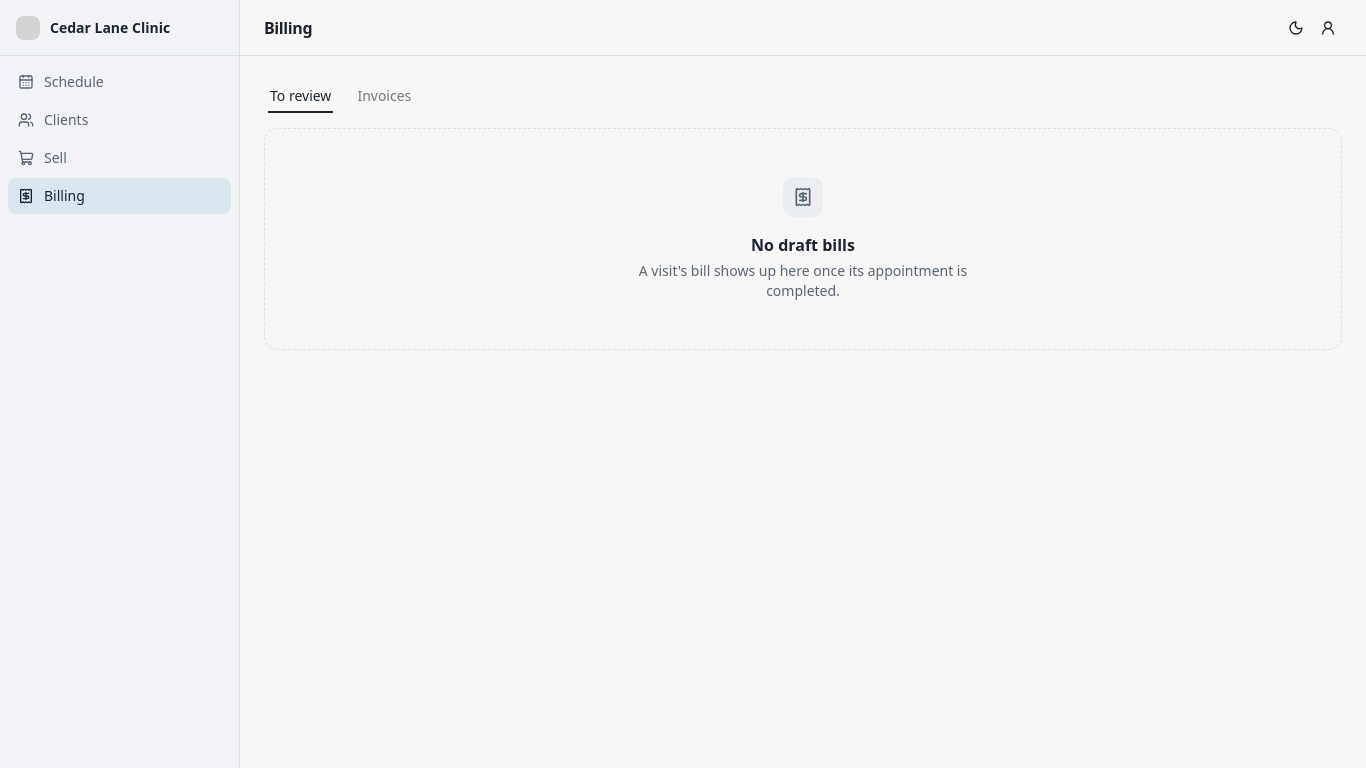
Test: a service row shows number, date, client, total, balance and status, and links plain
Step 1. Click the tab "Invoices" → (384, 96), box [354,84,414,108]
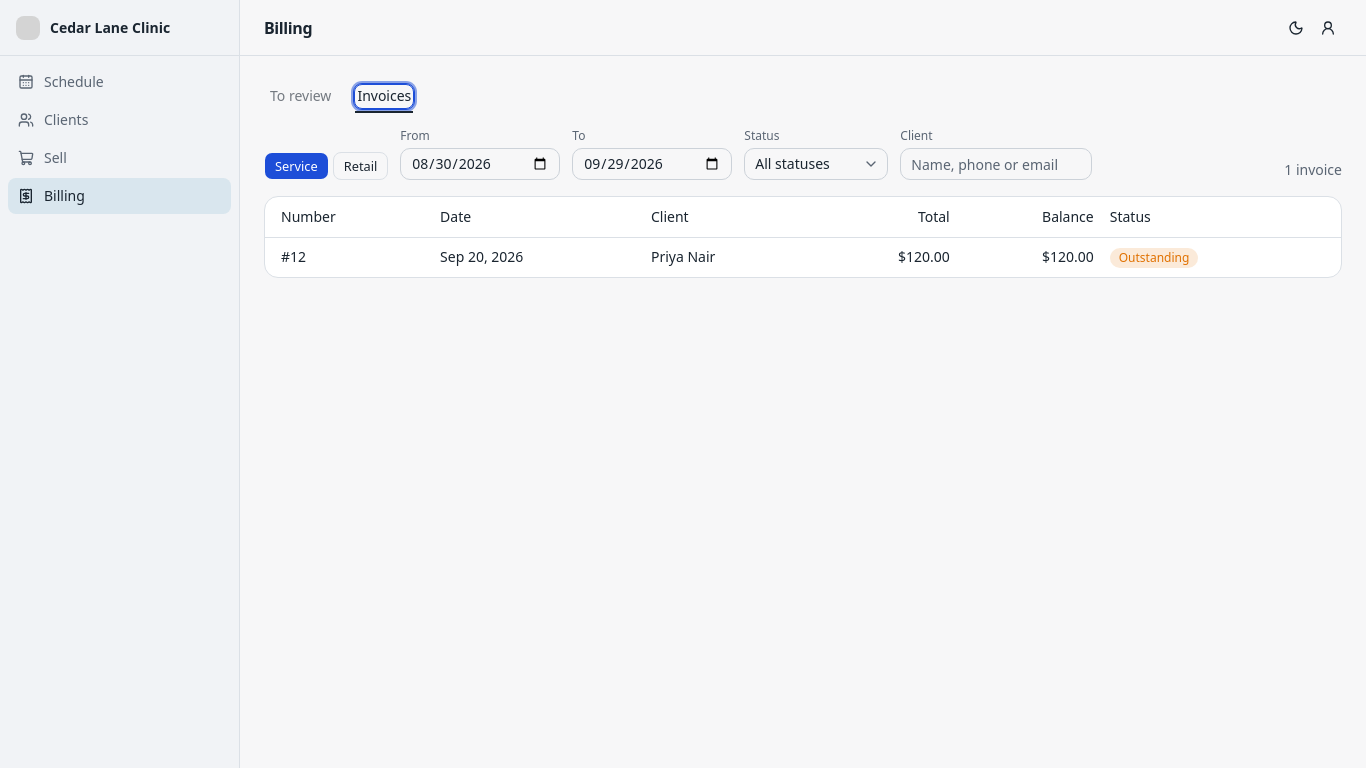
Check: the link "#12" is shown, box [281,247,306,266]
Check: the text "Priya Nair" is shown, box [643,237,814,277]
Check: the text "$120.00" is shown 2 times, box [814,237,958,277]; [958,237,1102,277]
